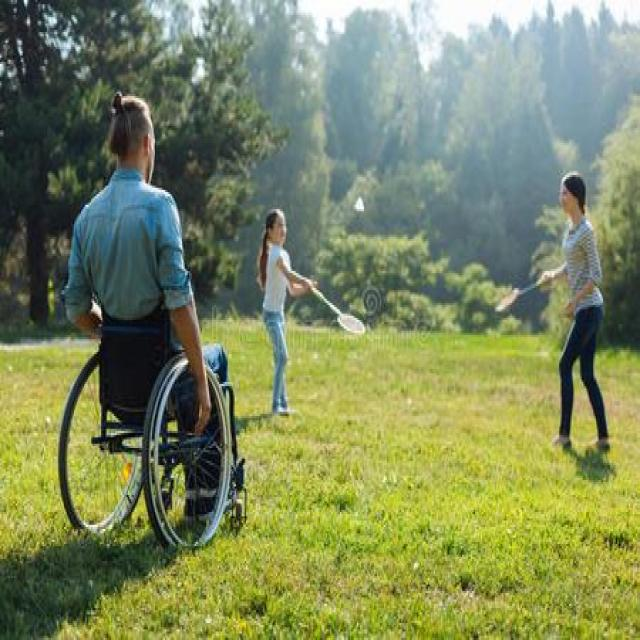wheelchairs: (50, 280, 256, 563)
